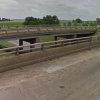Bridge: (2, 19, 96, 64)
